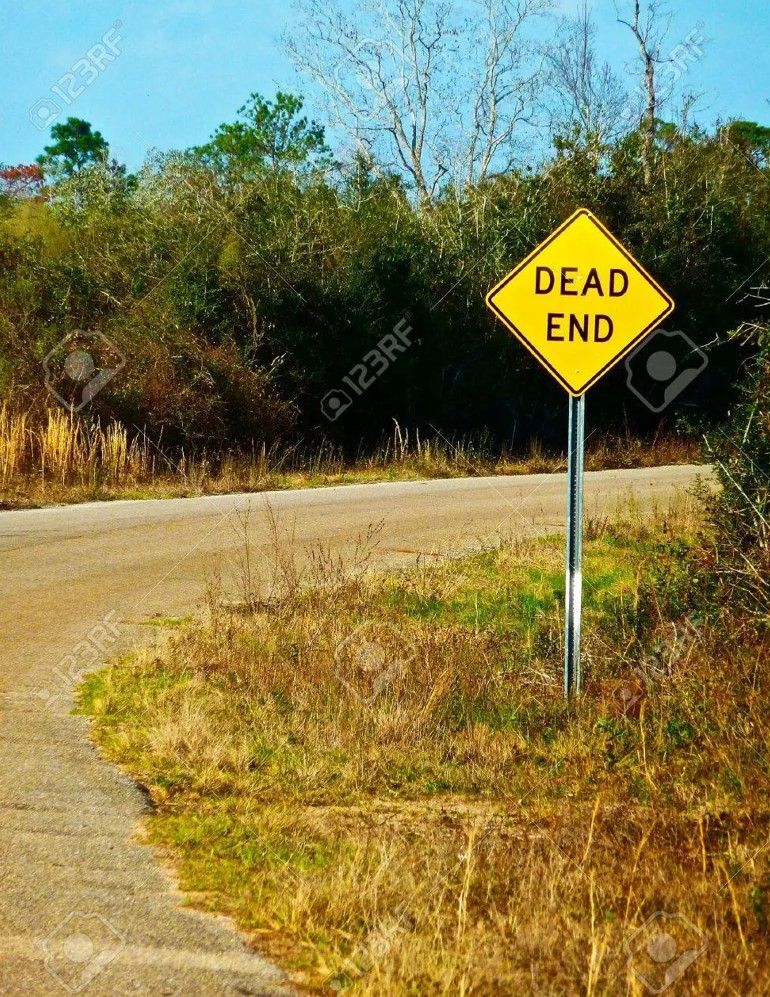Deadend: (486, 208, 676, 397)
